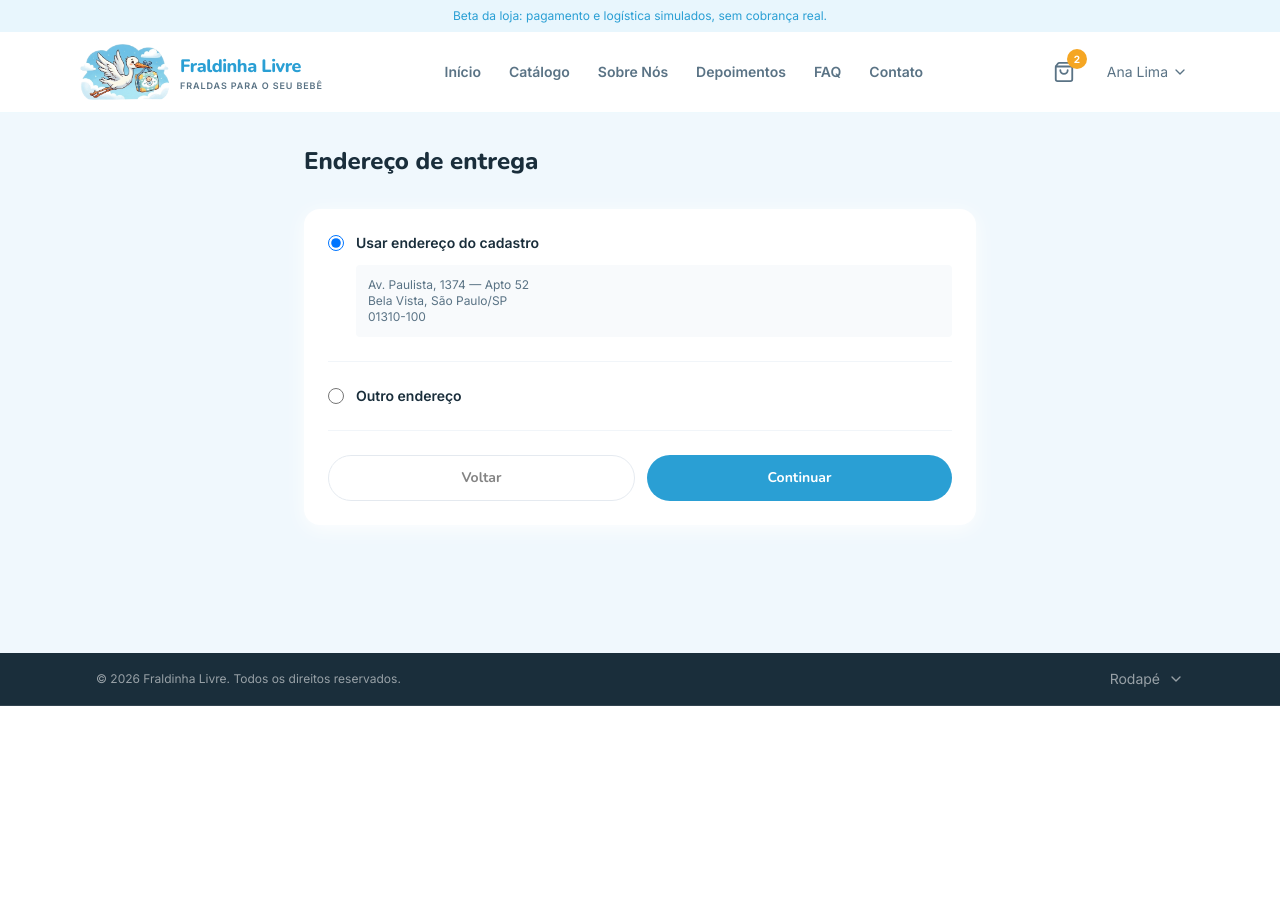
Test: CheckoutPage › Passo: Endereco › should navigate to revisao when continue is clicked
Step 1. Click the button "Continuar" → (800, 478), box [647, 455, 952, 501]
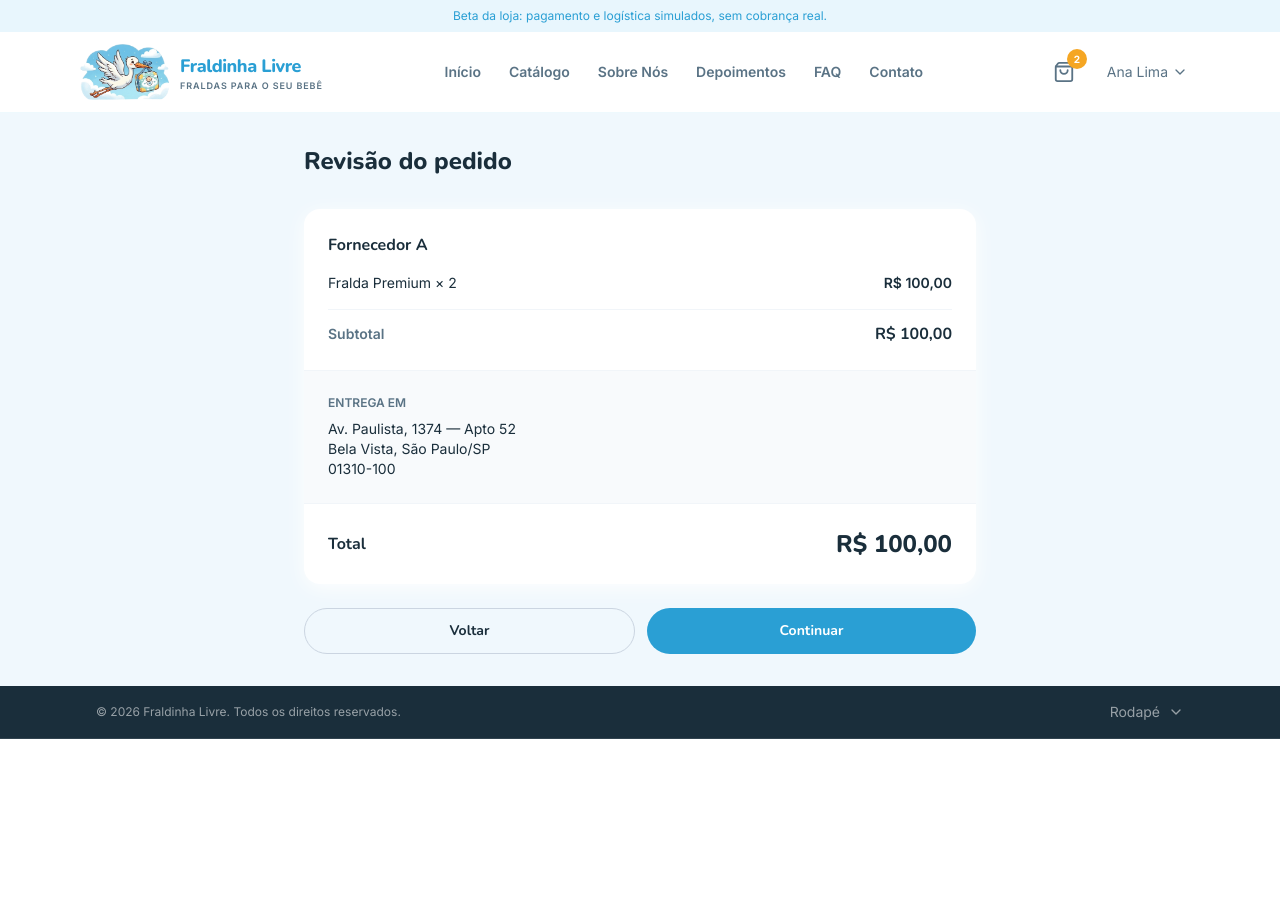
Expected: the heading "Revisão do pedido" is shown, [304, 145, 512, 177]
